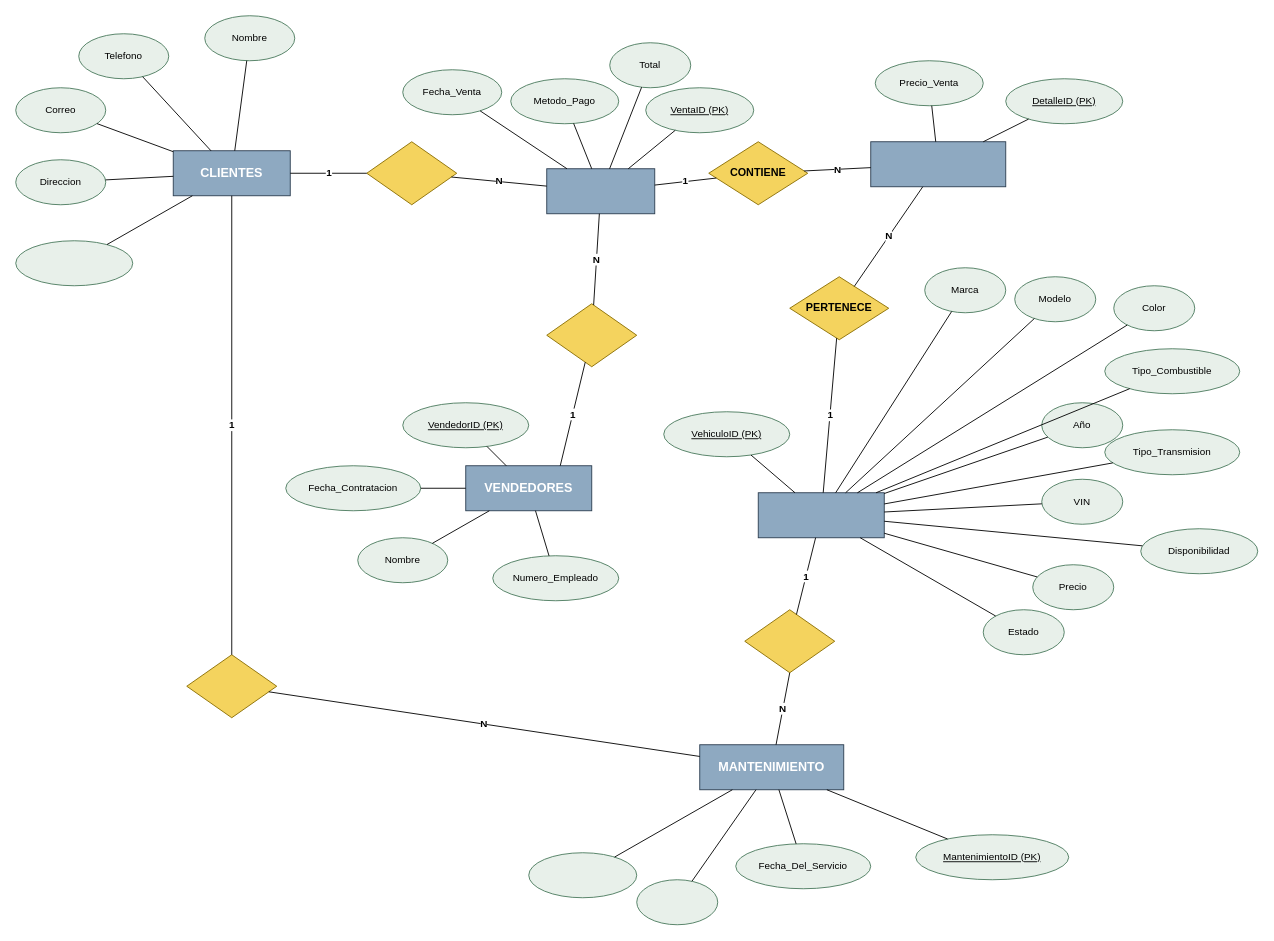
Image size: 1274x941. Some labels were removed from this diagram. The shapes that lost their labels are listed below. From the top down, each one's box as (x1, y1, x2, y2) in pixels, then its label:
(366, 141, 457, 205): REALIZA
(870, 141, 1006, 187): DETALLE_VENTA
(546, 168, 655, 214): VENTAS
(15, 240, 133, 286): ClienteID (PK)
(546, 303, 637, 367): REGISTRA
(757, 492, 884, 538): VEHICULOS
(744, 609, 835, 673): RECIBE
(186, 654, 277, 718): SOLICITA
(528, 852, 637, 898): Tipo_Servicio
(636, 879, 718, 925): Costo
